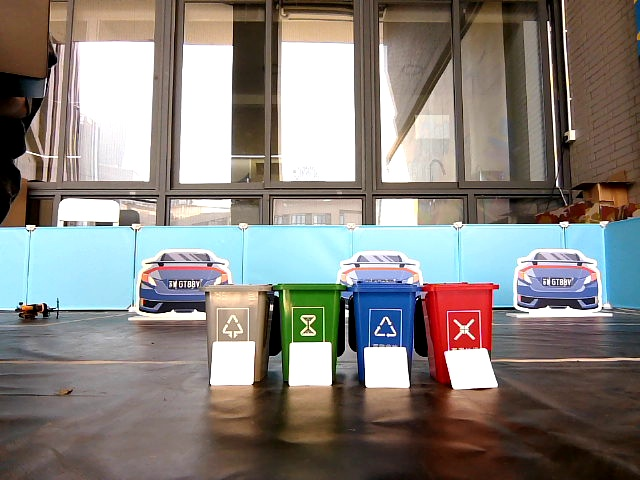blue_open: (356, 286, 413, 345)
green_open: (279, 282, 338, 339)
grey_open: (207, 284, 267, 341)
red_open: (428, 283, 490, 346)
